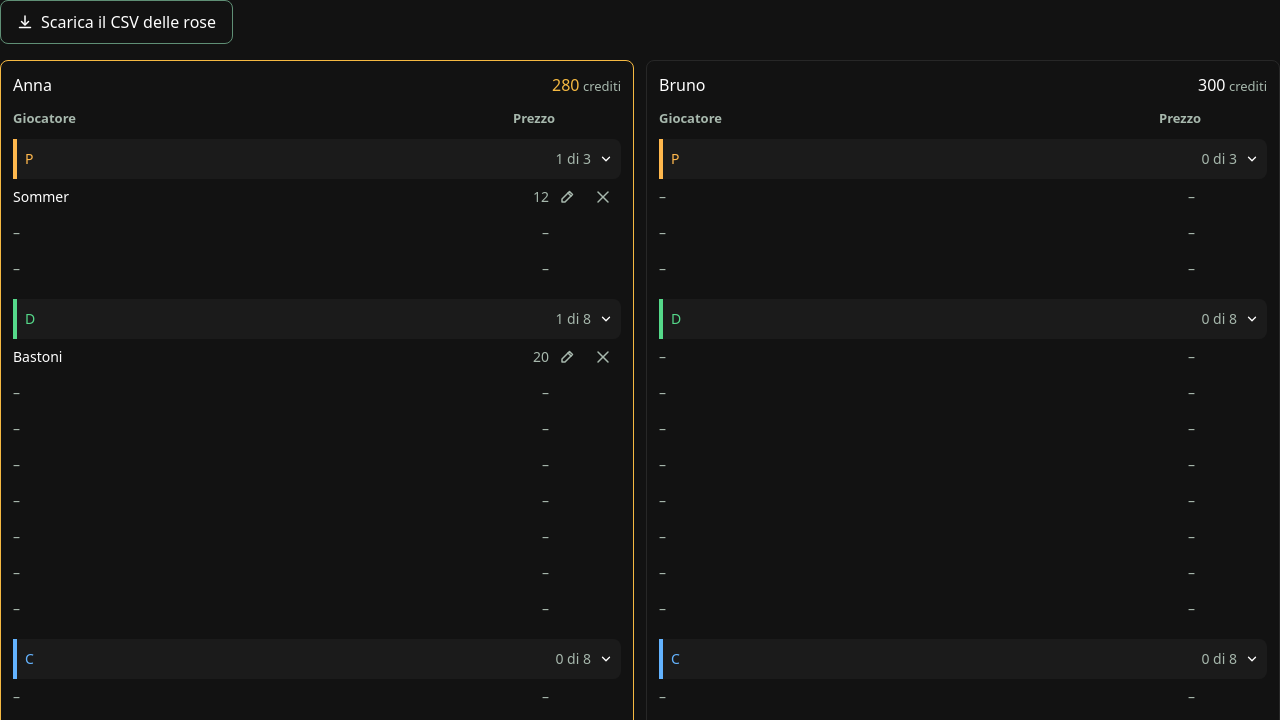
Test: RosterGrid › l'amministratore corregge prezzo e squadra
The image size is (1280, 720).
Click the button named "Correggi l'acquisto di Sommer" at x=567, y=197, box 549,179 -> 585,215
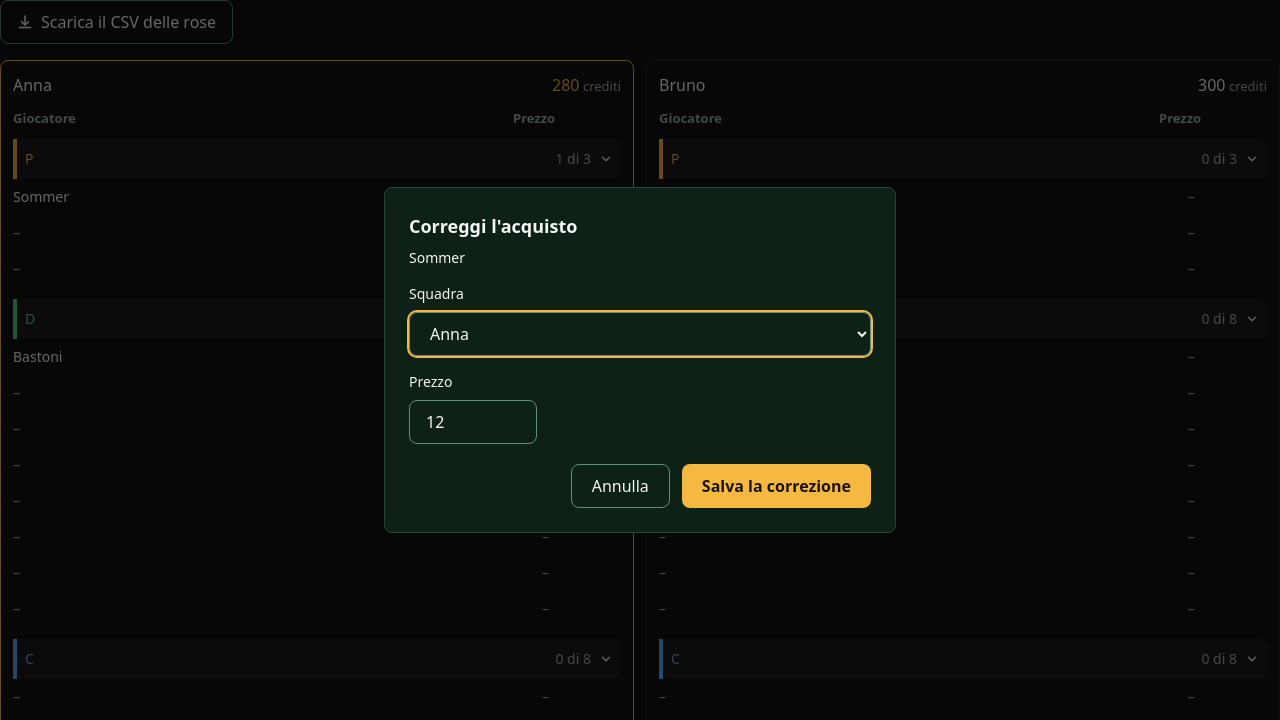
Now the dropdown labelled "Squadra" shows "Anna"
Select "Bruno" in the dropdown labelled "Squadra" at x=640, y=334, box 409,312 -> 871,356
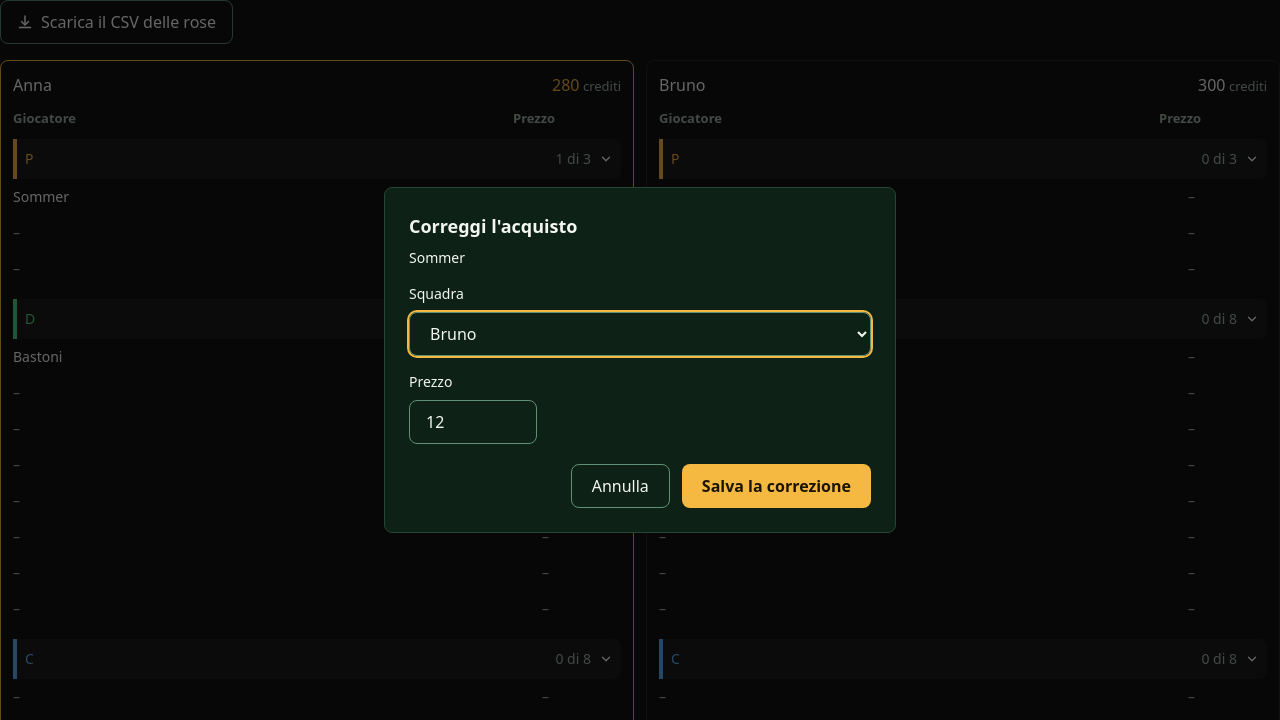
Replace the text in the field labelled "Prezzo" with "33" at x=473, y=422, box 409,400 -> 537,444
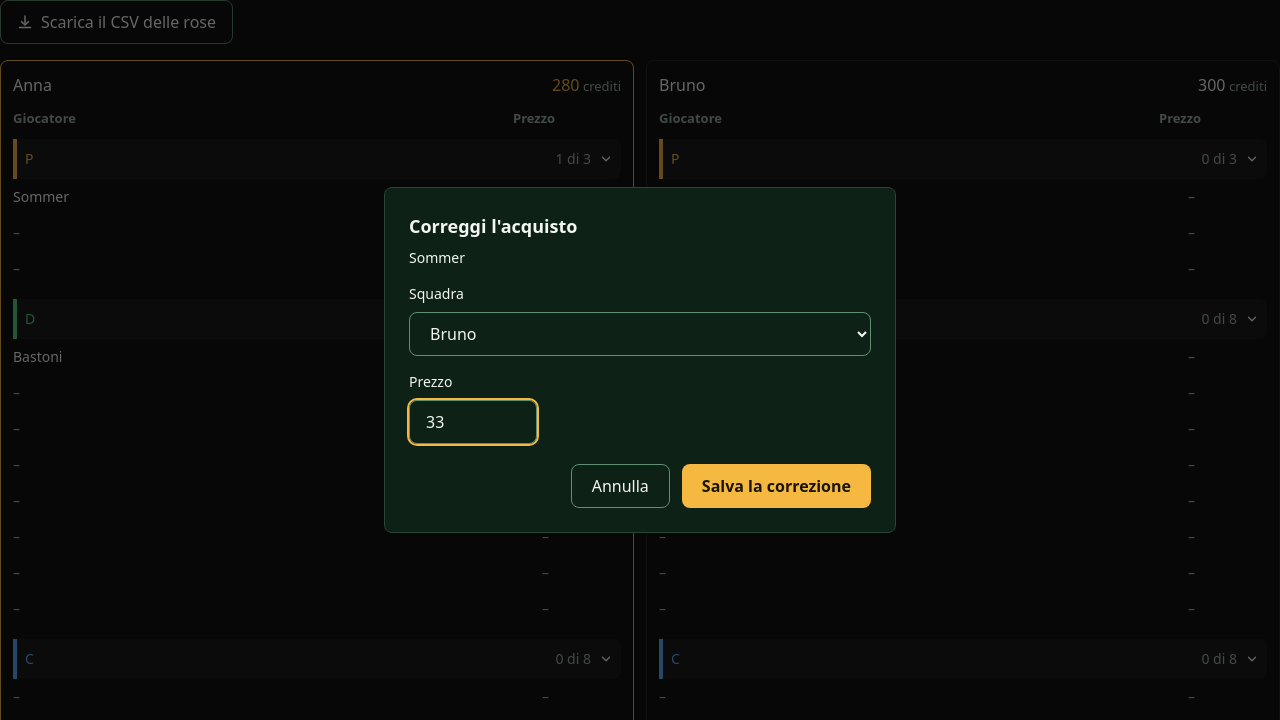
Click the button "Salva la correzione" at x=776, y=486, box 682,464 -> 871,508
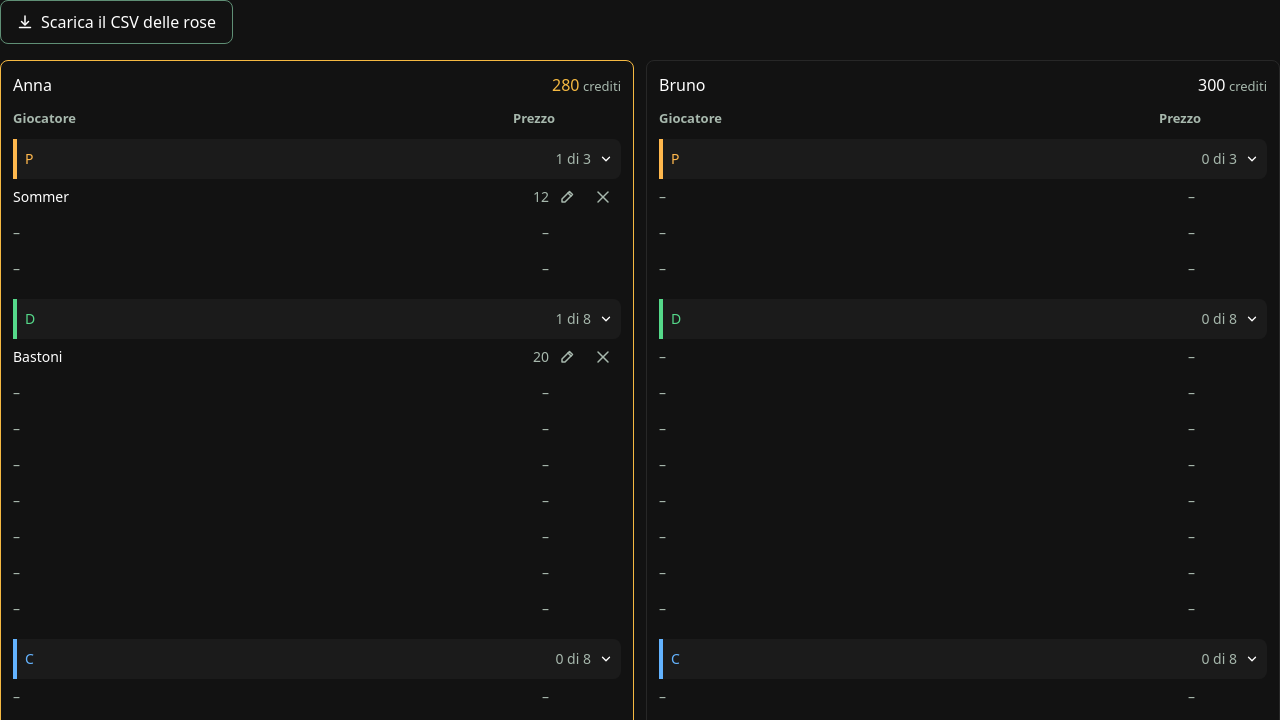
Now the dialog is gone
